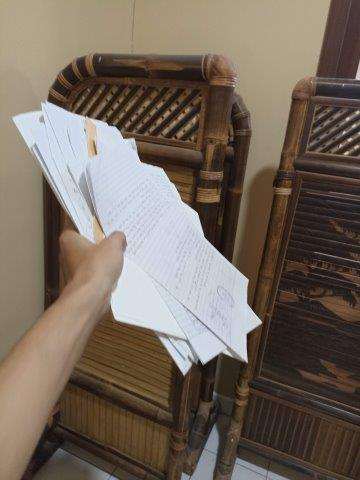kertas: (13, 101, 263, 375)
